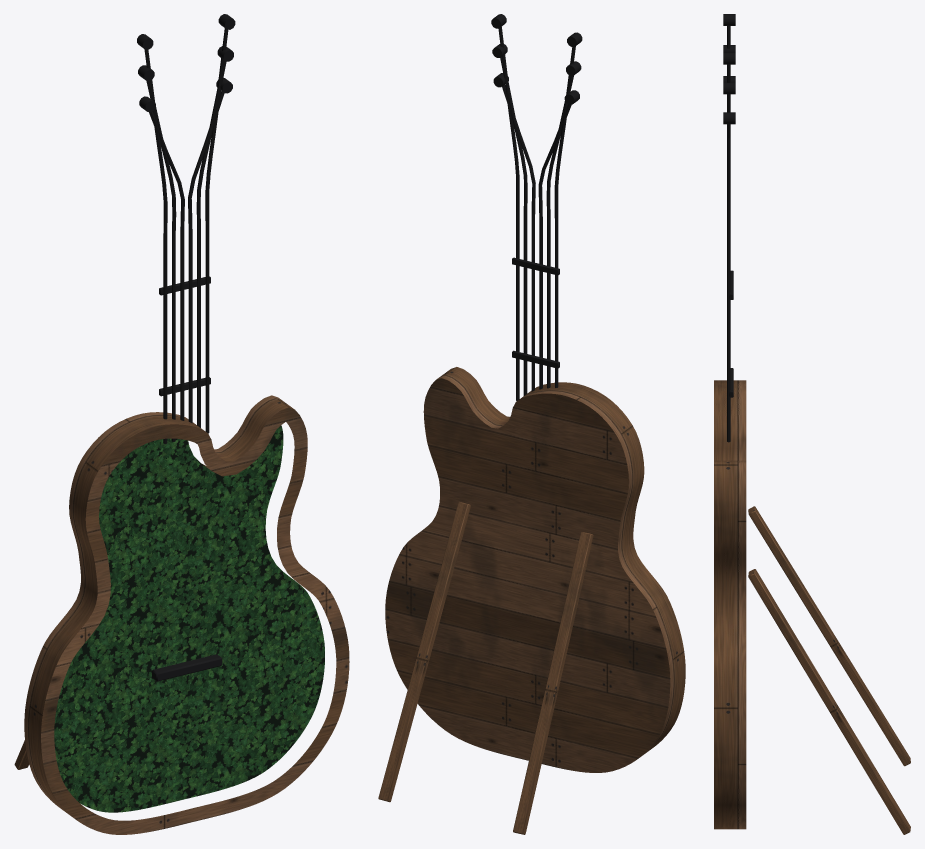
Rendered from pumpkin-guitar.glb.
The picture shows the model from 3 angles, left to right: view 1: azimuth 30°, elevation 25°; view 2: azimuth 150°, elevation 25°; view 3: azimuth 270°, elevation 25°; orthographic projection. The views are drawn at different scales.
Parts seen in each view (by area): view 1: guitar; view 2: guitar; view 3: guitar.
Boxes of the visible parts, box(x1,y1,x2,y2) form: guitar: box(14, 14, 349, 834); guitar: box(378, 14, 685, 834); guitar: box(714, 14, 910, 834).
Bounding box in the file's own units: 2.56 × 6.28 × 1.47.
3 materials, 2 textured.
